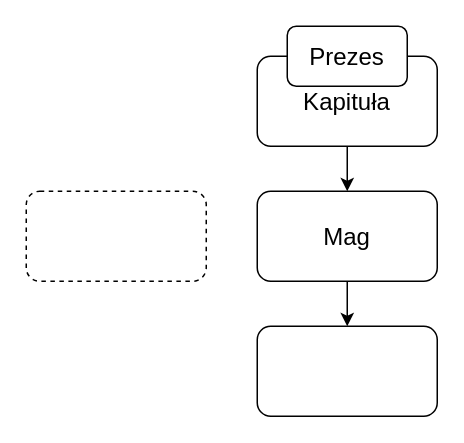
Some shapes in this 464 by 443 pixel diagram are drawn without their labels. The centre of each missing label's shape, as x and y in pixels:
Członek: the point at 346,370
Valhalla: the point at 115,235
